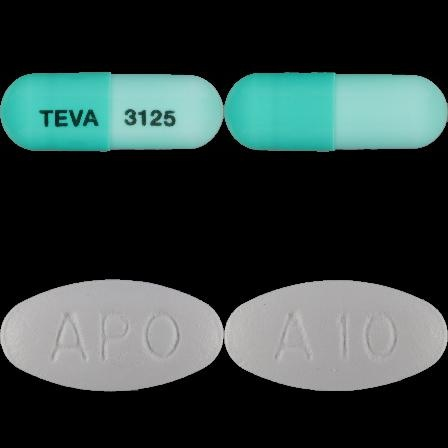43063-473: (0, 0, 224, 224)
